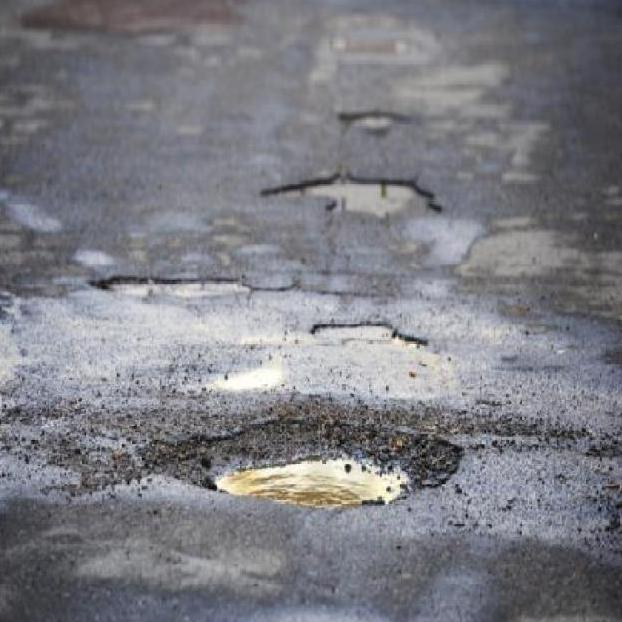pothole: (144, 397, 464, 517), (273, 165, 440, 221), (284, 310, 422, 346), (86, 272, 252, 301), (339, 107, 403, 137)
